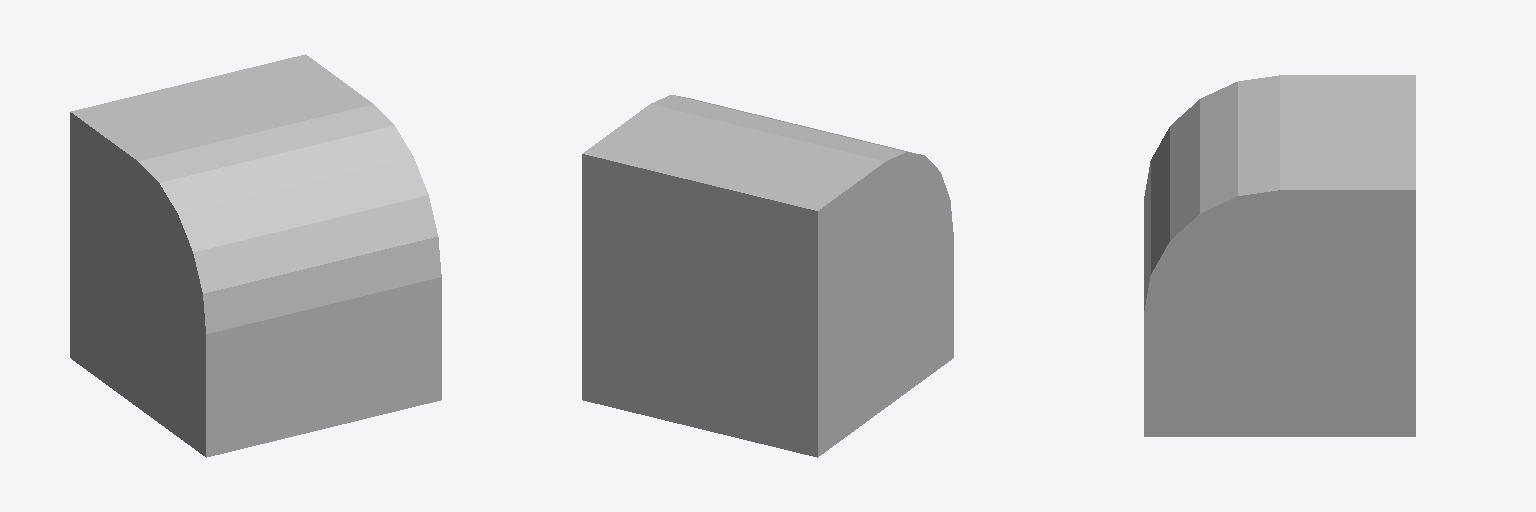
3 views of the same model, side by side, from view 1: azimuth 30°, elevation 25°; view 2: azimuth 150°, elevation 25°; view 3: azimuth 270°, elevation 25° (orthographic).
Visible parts, largest first — view 1: Base05; view 2: Base05; view 3: Base05.
Part boxes in pixels (x1,y1,x2,y2): Base05: (70,54,441,457); Base05: (582,95,953,457); Base05: (1144,75,1415,436).
Size of the model in its own units: 2 by 2 by 2.